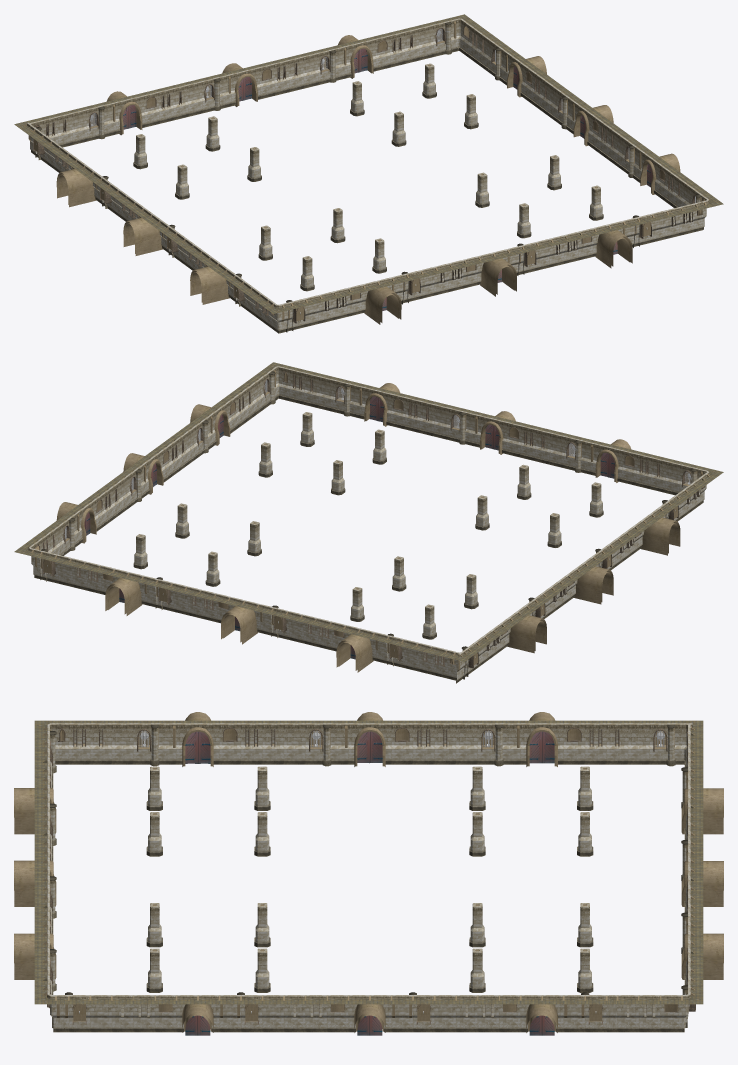
The model's file is WallFrame.gltf.
3 renders of one model, top to bottom at view 1: azimuth 30°, elevation 25°; view 2: azimuth 150°, elevation 25°; view 3: azimuth 270°, elevation 25°, orthographic. The views are drawn at different scales.
Parts seen in each view (by area): view 1: castle-edge-1.004; view 2: castle-edge-1.004; view 3: castle-edge-1.004, castle-column.010, castle-column.004, castle-column.011, castle-column.012, castle-column.014, castle-column.008, castle-column.013, castle-column.015, castle-column.005, castle-column.002, castle-column.003 (+5 smaller).
Boxes of the visible parts, x1,y1,x2,y2 form: castle-edge-1.004: (14, 14, 723, 333); castle-edge-1.004: (14, 362, 723, 683); castle-edge-1.004: (14, 712, 723, 1032); castle-column.010: (254, 766, 270, 810); castle-column.004: (469, 766, 485, 810); castle-column.011: (254, 812, 270, 856); castle-column.012: (469, 903, 485, 947); castle-column.014: (254, 903, 270, 947); castle-column.008: (469, 812, 485, 856); castle-column.013: (254, 948, 270, 992); castle-column.015: (469, 948, 485, 992); castle-column.005: (577, 812, 593, 856); castle-column.002: (577, 903, 593, 947); castle-column.003: (146, 812, 162, 856).
Bounding box in the file's own units: 66.21 × 4.19 × 66.01.
